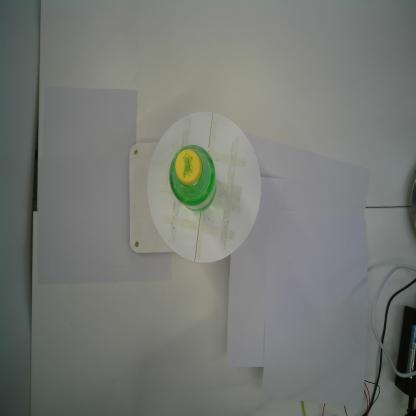Drink: (168, 144, 216, 212)
